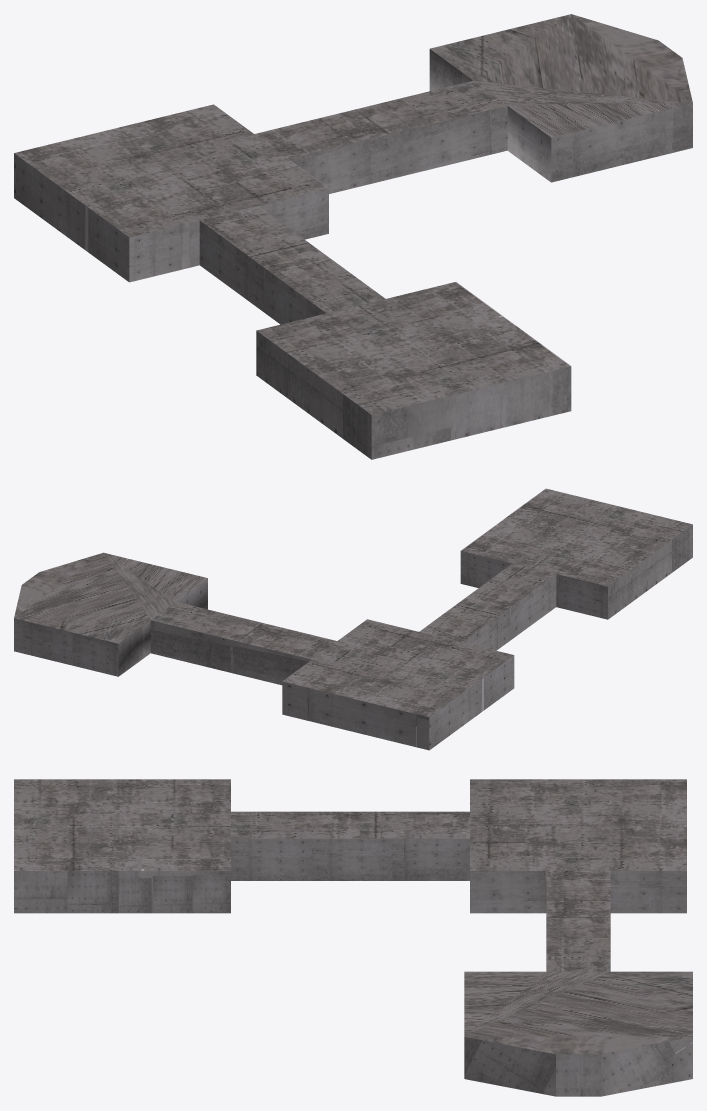
Rendered from Tutorial.fbx.
3 renders of one model, top to bottom at view 1: azimuth 30°, elevation 25°; view 2: azimuth 150°, elevation 25°; view 3: azimuth 270°, elevation 25°, orthographic. The views are drawn at different scales.
Parts seen in each view (by area): view 1: Stage_Tyuto; view 2: Stage_Tyuto; view 3: Stage_Tyuto.
Part boxes in pixels (x1=…): Stage_Tyuto: x1=14, y1=14, x2=692, y2=459; Stage_Tyuto: x1=14, y1=488, x2=692, y2=750; Stage_Tyuto: x1=14, y1=779, x2=692, y2=1096.
Bounding box in the file's own units: 83.53 × 5.99 × 87.15.
1 material, 1 textured.
